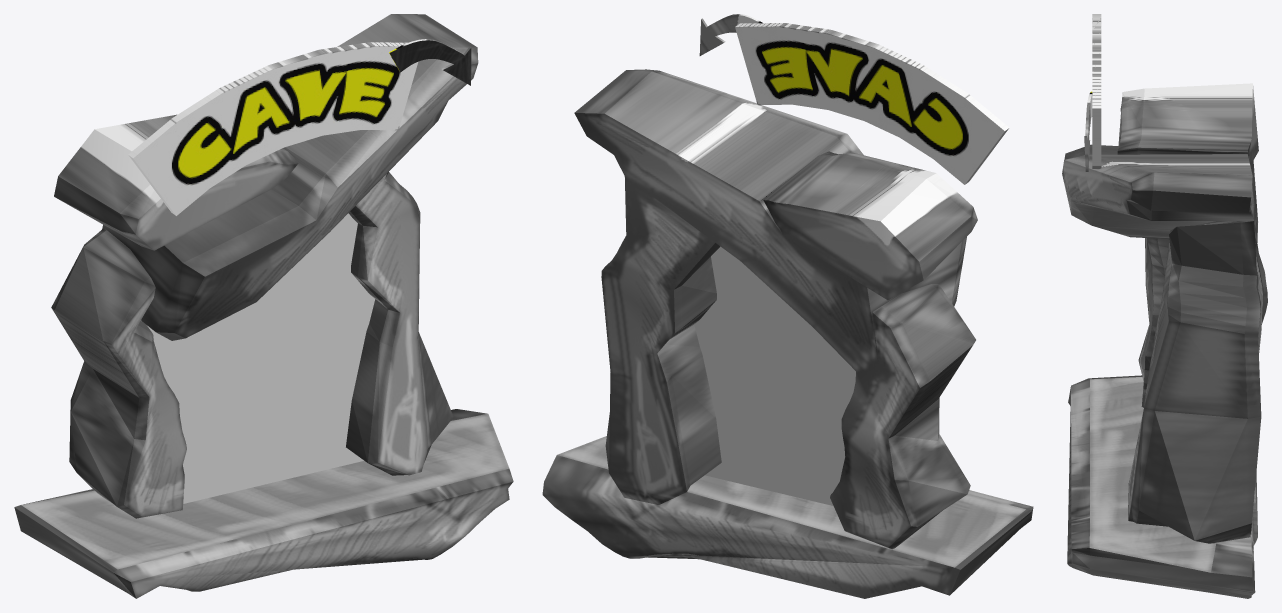
Rendered from cave_entrance.FBX.
3 renders of one model, left to right at view 1: azimuth 30°, elevation 25°; view 2: azimuth 150°, elevation 25°; view 3: azimuth 270°, elevation 25°, orthographic. The views are drawn at different scales.
Parts seen in each view (by area): view 1: Line005, opening, arrow; view 2: Line005, opening, arrow; view 3: Line005, arrow.
Boxes of the visible parts, box(x1,y1,x2,y2) form: Line005: box(14, 14, 513, 598); opening: box(141, 213, 375, 503); arrow: box(389, 39, 471, 85); Line005: box(542, 23, 1033, 598); opening: box(694, 246, 855, 505); arrow: box(699, 14, 762, 55); Line005: box(1062, 14, 1267, 598); arrow: box(1084, 91, 1092, 171).
Bounding box in the file's own units: 41.92 × 47.39 × 18.15.
Materials: 1 (1 with a texture image).
